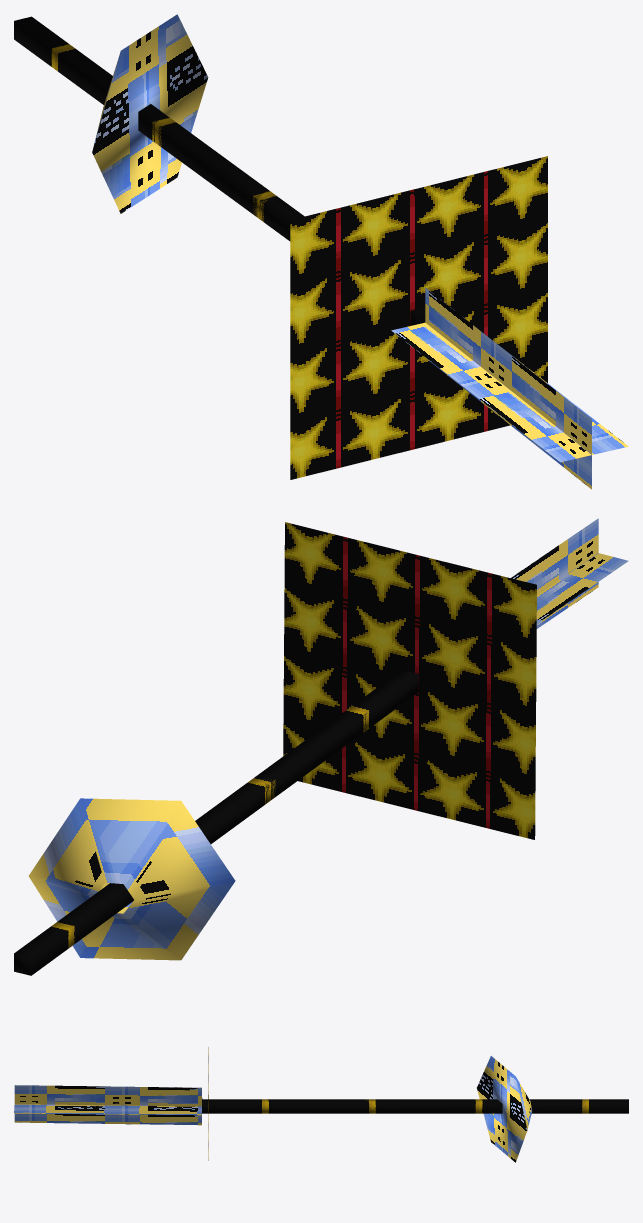
Rendered from 00_04_stick.gltf.
The picture shows the model from 3 angles, top to bottom: view 1: azimuth 30°, elevation 25°; view 2: azimuth 150°, elevation 25°; view 3: azimuth 270°, elevation 25°; orthographic projection. The views are drawn at different scales.
Visible parts, largest first — view 1: 00_04_stick; view 2: 00_04_stick; view 3: 00_04_stick.
Boxes of the visible parts, <box> form: 00_04_stick: <box>14,14,628,489</box>; 00_04_stick: <box>14,518,628,975</box>; 00_04_stick: <box>14,1047,628,1162</box>.
Size of the model in its own units: 0.3633 by 0.3516 by 1.41.
3 materials, 3 textured.
